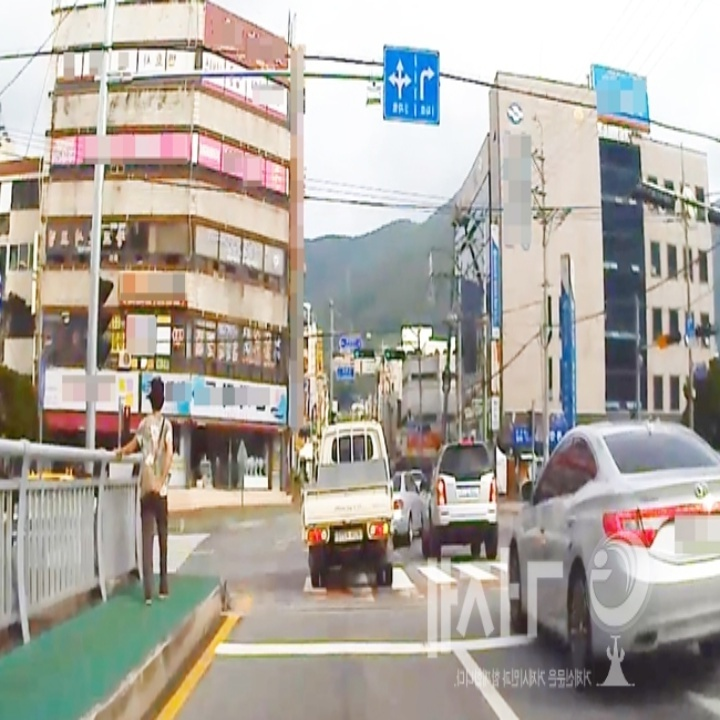right: (416, 60, 435, 104)
